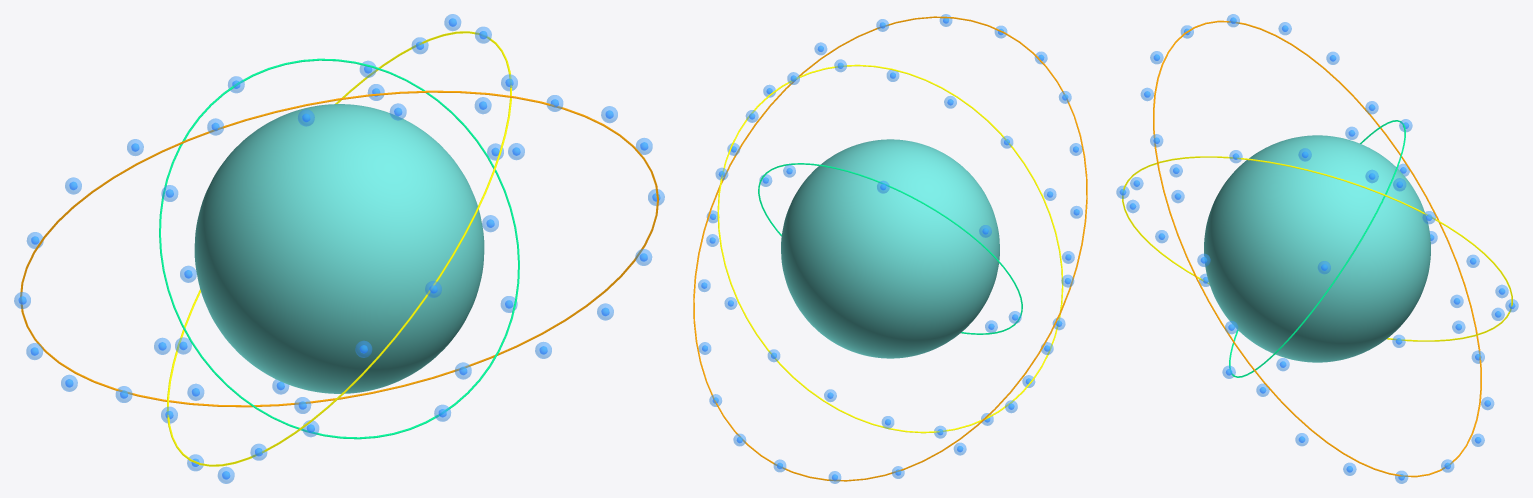
The picture shows the model from 3 angles, left to right: view 1: azimuth 30°, elevation 25°; view 2: azimuth 150°, elevation 25°; view 3: azimuth 270°, elevation 25°; orthographic projection. The views are drawn at different scales.
Visible parts, largest first — view 1: Sn, object 61, object 7, object 24; view 2: Sn, object 61, object 24, object 7; view 3: Sn, object 61, object 24, object 7.
Boxes of the visible parts, x1,y1,x2,y2 form: Sn: [194, 104, 484, 393]; object 61: [20, 90, 658, 407]; object 7: [159, 58, 519, 439]; object 24: [166, 31, 512, 466]; Sn: [781, 139, 999, 358]; object 61: [693, 16, 1087, 481]; object 24: [717, 64, 1063, 433]; object 7: [758, 163, 1022, 334]; Sn: [1204, 135, 1430, 362]; object 61: [1153, 20, 1481, 477]; object 24: [1122, 156, 1512, 341]; object 7: [1229, 120, 1405, 377].
Size of the model in its own units: 5.94 by 4.82 by 4.77.
